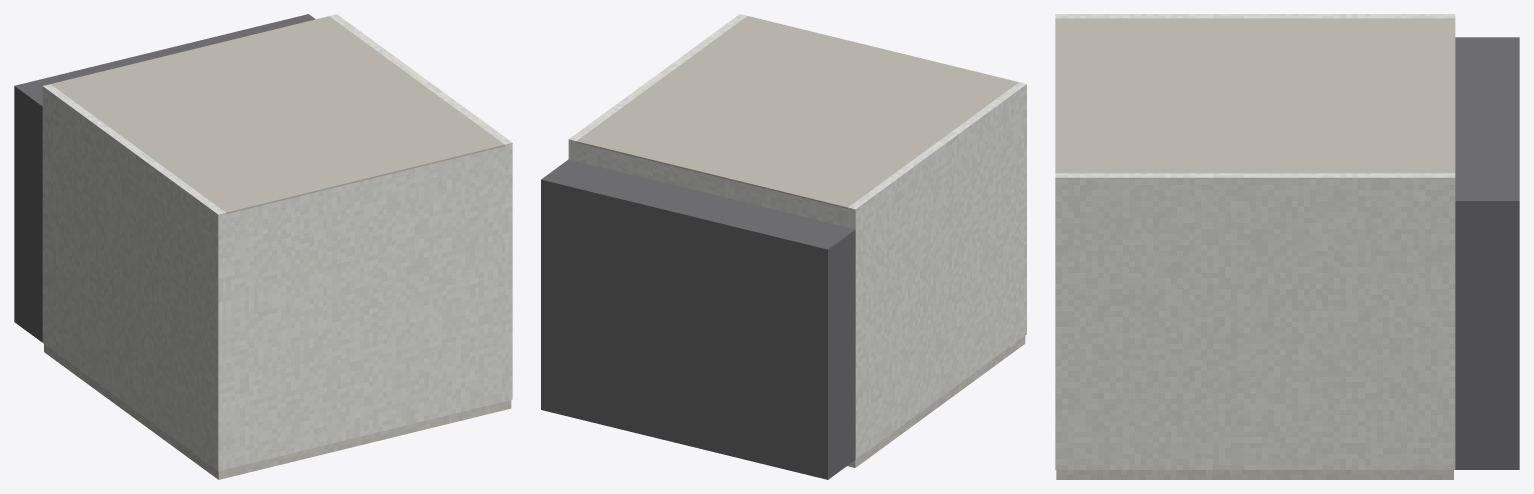
The model's file is sink_600.obj.
The picture shows the model from 3 angles, left to right: view 1: azimuth 30°, elevation 25°; view 2: azimuth 150°, elevation 25°; view 3: azimuth 270°, elevation 25°; orthographic projection. The views are drawn at different scales.
Visible parts, largest first — view 1: krysha, bokovina_levaya, zadnyaya_stenka, cokol, fasad_1, bokovina_pravaya; view 2: cokol, zadnyaya_stenka, bokovina_levaya, dno, bokovina_pravaya, fasad_1; view 3: bokovina_pravaya, zadnyaya_stenka, cokol, fasad_1, bokovina_levaya.
Boxes of the visible parts, x1,y1,x2,y2 form: krysha: [226, 146, 504, 469]; bokovina_levaya: [42, 84, 225, 471]; zadnyaya_stenka: [51, 16, 504, 213]; cokol: [14, 14, 315, 342]; fasad_1: [44, 344, 511, 479]; bokovina_pravaya: [329, 14, 512, 401]; cokol: [541, 159, 855, 479]; zadnyaya_stenka: [576, 16, 1018, 208]; bokovina_levaya: [848, 82, 1026, 459]; dno: [576, 143, 847, 227]; bokovina_pravaya: [568, 14, 746, 160]; fasad_1: [847, 336, 1025, 467]; bokovina_pravaya: [1055, 173, 1455, 469]; zadnyaya_stenka: [1055, 18, 1455, 173]; cokol: [1455, 37, 1519, 469]; fasad_1: [1056, 470, 1453, 479]; bokovina_levaya: [1055, 14, 1455, 18].
Bounding box in the file's own units: 600 × 518 × 720.
